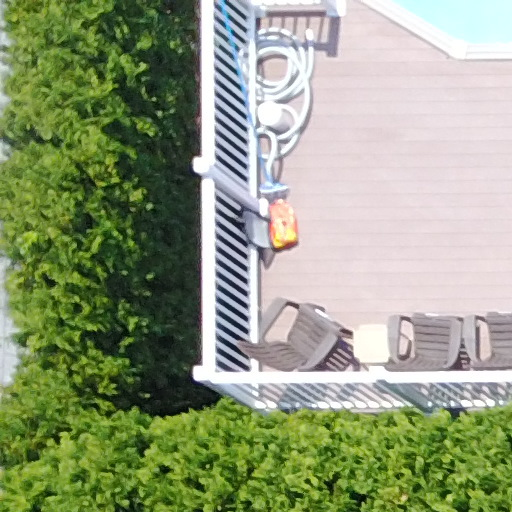porch: (146, 1, 512, 448)
